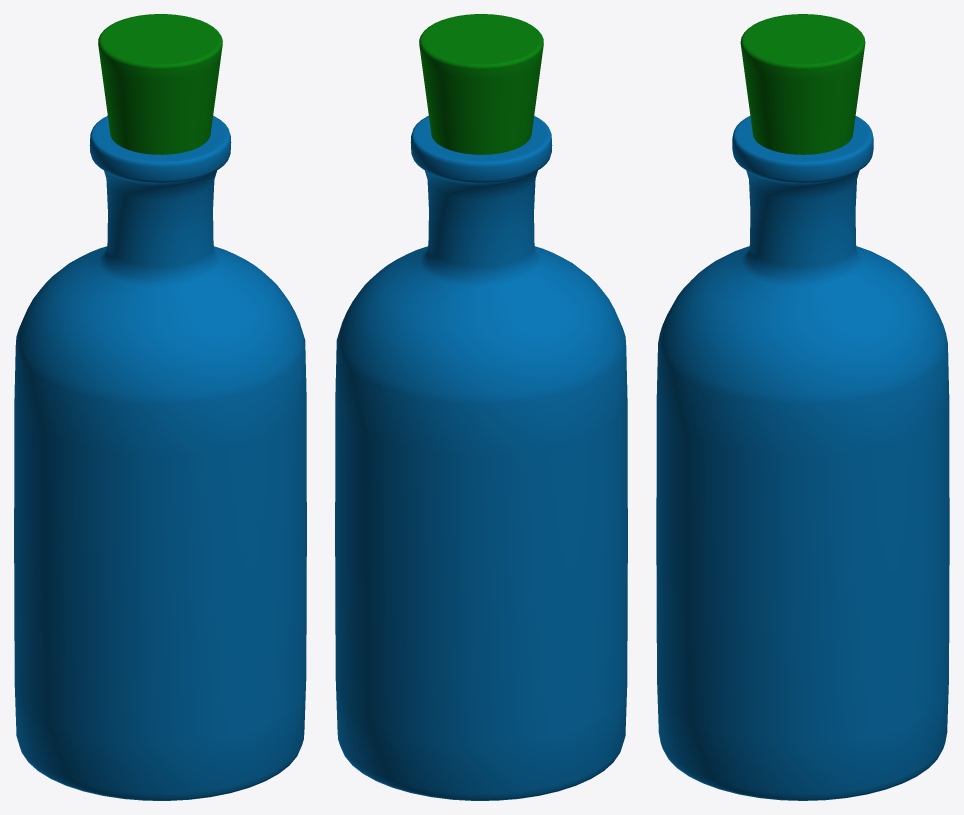
File: Bttle.FBX
3 views of the same model, side by side, from view 1: azimuth 30°, elevation 25°; view 2: azimuth 150°, elevation 25°; view 3: azimuth 270°, elevation 25° (orthographic).
Visible parts, largest first — view 1: Bttle001; view 2: Bttle001; view 3: Bttle001.
Boxes of the visible parts, x1,y1,x2,y2 form: Bttle001: (14, 14, 306, 800); Bttle001: (335, 14, 627, 800); Bttle001: (656, 14, 949, 800).
Size of the model in its own units: 59.27 by 157 by 59.27.
